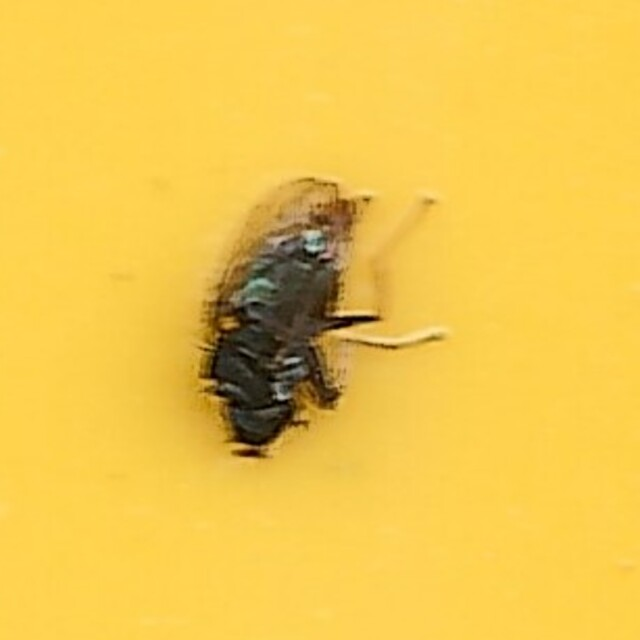Brachycera: (208, 174, 432, 466)
